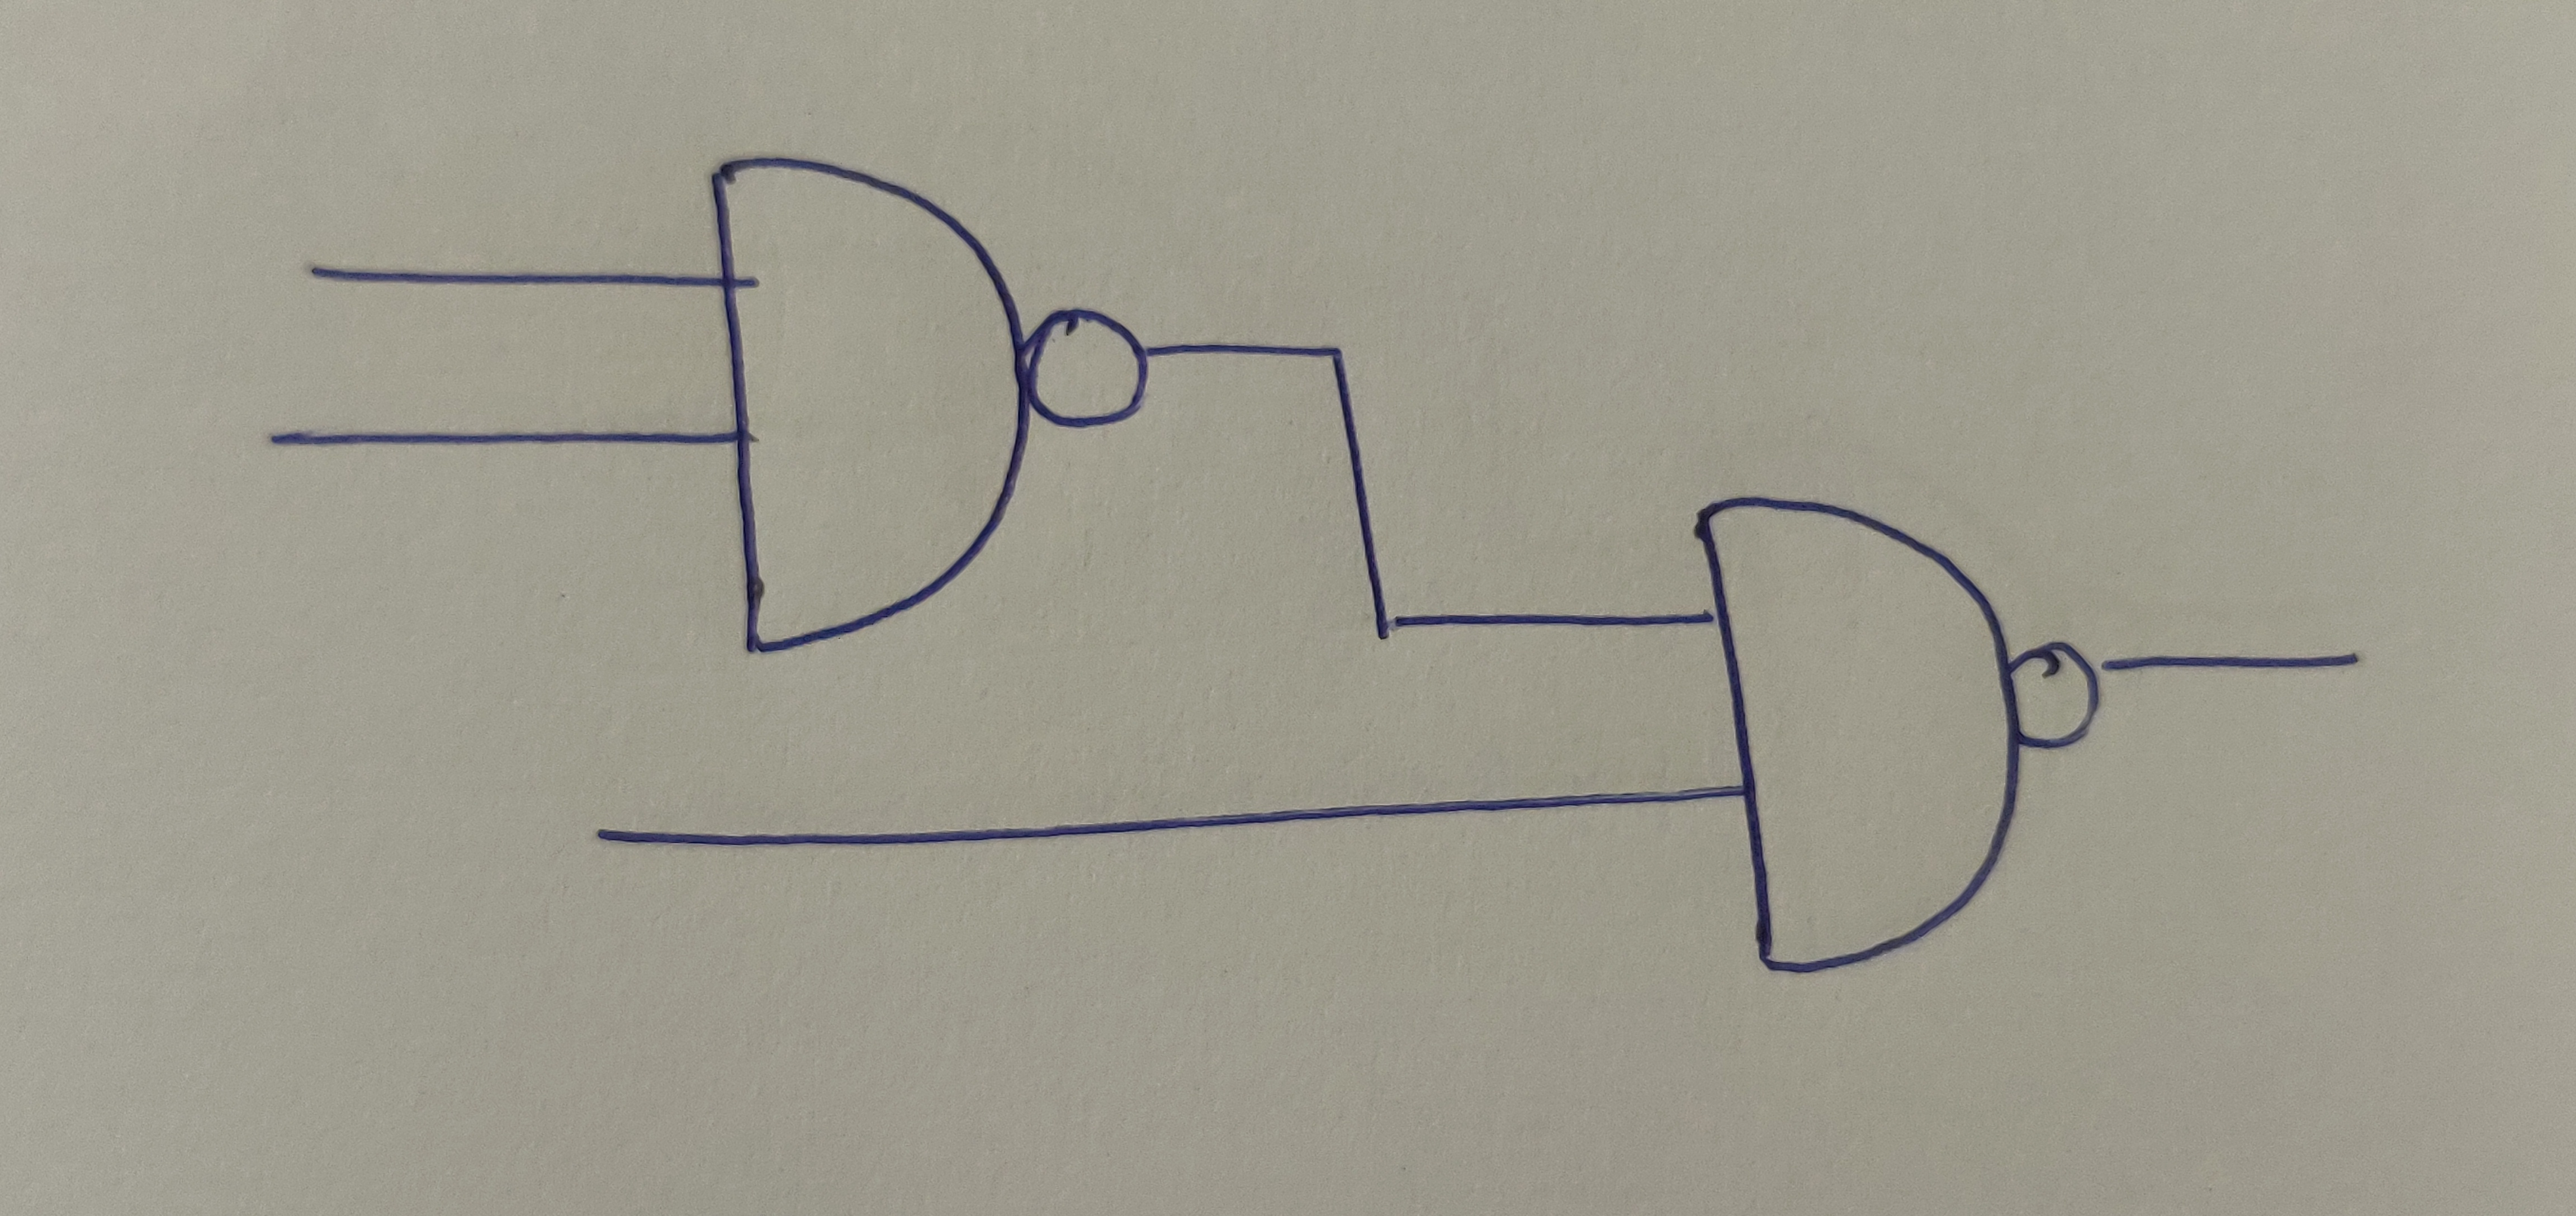and: (705, 153, 1032, 651), (1684, 498, 2022, 976)
not: (1022, 309, 1158, 429), (2004, 646, 2106, 746)
